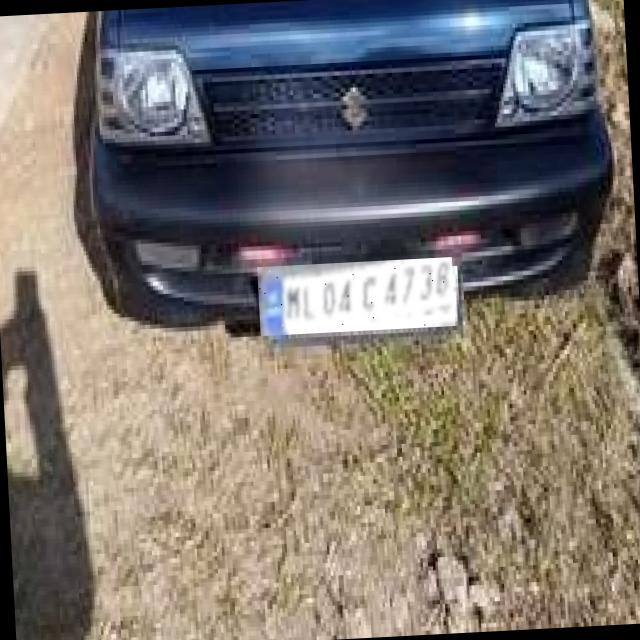Plate: (259, 258, 457, 337)
